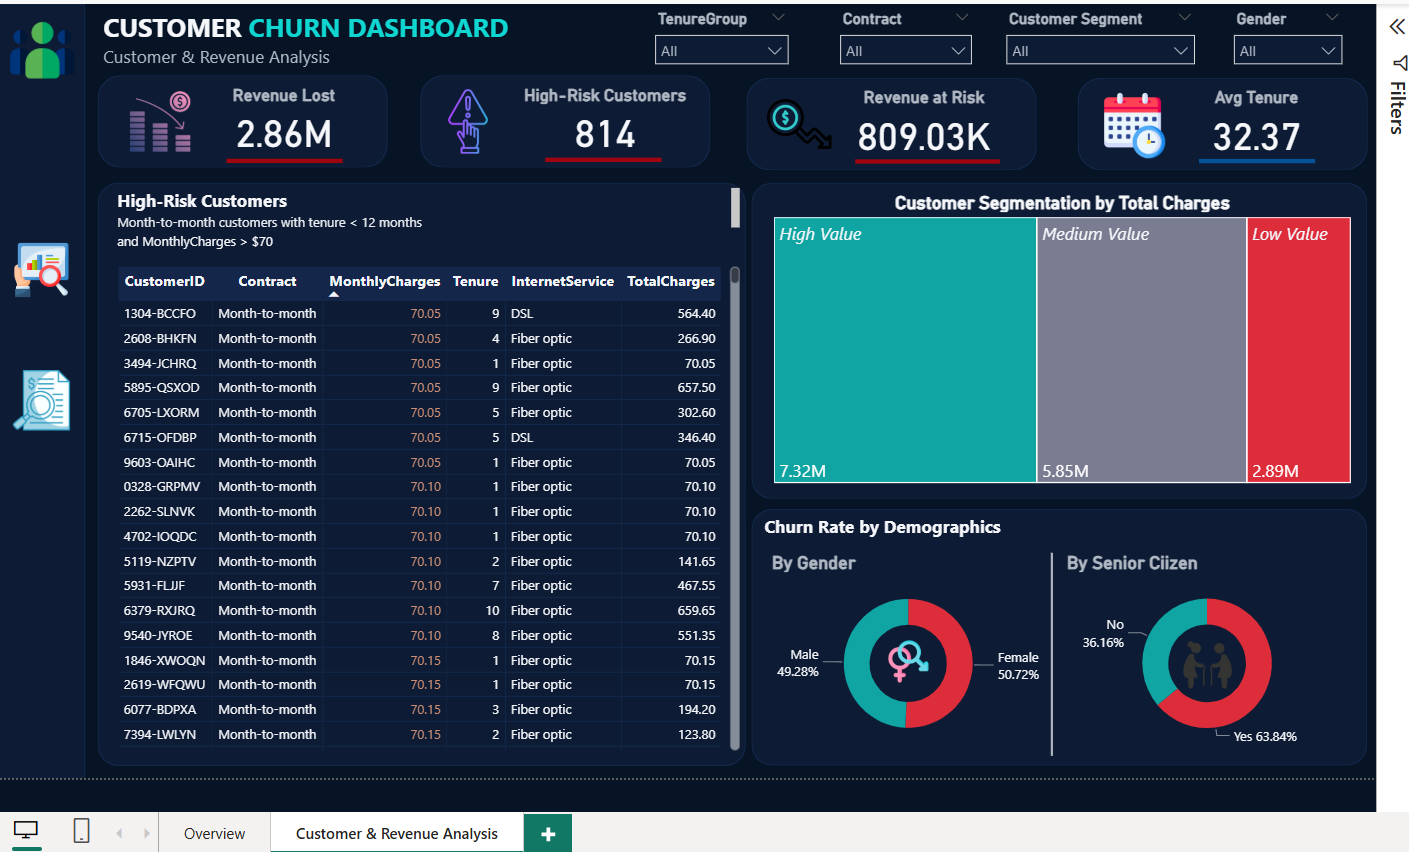

The dashboard page shown, as its layout file describes it:
{"tool":"powerbi","page":{"name":"Customer & Revenue Analysis","canvas":[1280,720],"ordinal":1},"visuals":[{"type":"shape","box":[700,166.3,572.3,294],"z":0},{"type":"shape","box":[91.6,166.3,602.4,542.2],"z":1000},{"type":"shape","box":[0,0,80,720],"z":2000},{"type":"textbox","box":[91.2,0,426.2,66.2],"z":3000},{"type":"shape","box":[91.8,66.2,269.6,86],"z":4000},{"type":"slicer","fields":{"Values":["Telco-Customer-Churn.Gender"]},"box":[1137.6,0,120.8,66.2],"z":5000},{"type":"slicer","fields":{"Values":["Telco-Customer-Churn.Customer Segment"]},"box":[926.1,0,195.2,66.2],"z":6000},{"type":"slicer","fields":{"Values":["Telco-Customer-Churn.Contract"]},"box":[771.5,0,142.9,66.2],"z":7000},{"type":"slicer","fields":{"Values":["Telco-Customer-Churn.TenureGroup"]},"box":[599.6,0,144.1,66.2],"z":8000},{"type":"image","box":[0,8.1,80.2,69.7],"z":9000},{"type":"shape","box":[211.5,137.1,108.1,17.4],"z":10000},{"type":"shape","box":[391.6,66.2,269.6,86],"z":11000},{"type":"shape","box":[694.8,68.6,269.6,86],"z":12000},{"type":"shape","box":[1002.8,68.6,269.6,86],"z":13000},{"type":"card","title":"Revenue Lost","fields":{"Values":["MMeasures.Revenue Lost"]},"box":[176.6,75.5,176.6,66.2],"z":14000},{"type":"card","title":"High-Risk Customers","fields":{"Values":["MMeasures.High Risk Customers"]},"box":[475.2,75.5,176.6,66.2],"z":15000},{"type":"card","title":"Revenue at Risk","fields":{"Values":["MMeasures.Revenue at Risk"]},"box":[771.2,78.1,176.7,67.1],"z":16000},{"type":"card","title":"Avg Tenure","fields":{"Values":["MMeasures.Avg Tenure"]},"box":[1080.8,78.1,176.7,67.1],"z":17000},{"type":"tableEx","fields":{"Values":["Telco-Customer-Churn.CustomerID","Telco-Customer-Churn.Contract","Telco-Customer-Churn.MonthlyCharges","Telco-Customer-Churn.Tenure","Telco-Customer-Churn.InternetService","Telco-Customer-Churn.TotalCharges"]},"box":[104.8,239.8,589.2,459],"z":18000},{"type":"shape","box":[508.2,135.6,108.2,17.8],"z":19000},{"type":"shape","box":[1115.1,137,108.2,17.8],"z":20000},{"type":"image","box":[104.6,74.4,90,70],"z":21000},{"type":"image","box":[391.6,74.4,89.5,69.7],"z":22000},{"type":"image","box":[1010.9,77.9,89.5,70.9],"z":23000},{"type":"shape","box":[795.9,138.3,134.8,16.3],"z":24000},{"type":"image","box":[699.5,76.7,89.5,69.7],"z":25000},{"type":"textbox","box":[104.8,166.3,589.2,73.5],"z":26000},{"type":"shape","box":[700,469.9,572.3,238.6],"z":27000},{"type":"donutChart","title":" By Gender","fields":{"Category":["Telco-Customer-Churn.Gender"],"Y":["MMeasures.Churn Rate"]},"box":[713,509.2,263.9,189.2],"z":28000},{"type":"donutChart","title":" By Senior Ciizen","fields":{"Y":["MMeasures.Churn Rate"],"Category":["Telco-Customer-Churn.SeniorCitizenStatus"]},"box":[987.7,509.2,271.1,189.2],"z":29000},{"type":"textbox","box":[707,469.4,269.9,39.8],"z":30000},{"type":"shape","box":[968.7,509.6,19.3,189.2],"z":31000},{"type":"image","box":[814.2,586.3,61.4,49.4],"z":32000},{"type":"image","box":[1091.3,586.3,65.1,55.4],"z":33000},{"type":"treemap","title":"Customer Segmentation by Total Charges","fields":{"Group":["Telco-Customer-Churn.Customer Segment"],"Values":["Sum(Telco-Customer-Churn.TotalCharges)"]},"box":[715.7,174.7,545.8,275.9],"z":34000},{"type":"image","box":[4.8,216.9,69.9,60.2],"z":34001},{"type":"image","box":[4.8,331.3,69.9,74.7],"z":34002}]}

Visuals, with their boxes on the page's 1280x720 design canvas (x1, y1, x2, y2). These are canvas units, not pixel positions in the 1409x852 screenshot, which may show the page scaled, cropped or inside an application window:
shape: region(700, 166, 1272, 460)
shape: region(92, 166, 694, 708)
shape: region(0, 0, 80, 720)
textbox: region(91, 0, 517, 66)
shape: region(92, 66, 361, 152)
slicer - Telco-Customer-Churn.Gender: region(1138, 0, 1258, 66)
slicer - Telco-Customer-Churn.Customer Segment: region(926, 0, 1121, 66)
slicer - Telco-Customer-Churn.Contract: region(772, 0, 914, 66)
slicer - Telco-Customer-Churn.TenureGroup: region(600, 0, 744, 66)
image: region(0, 8, 80, 78)
shape: region(212, 137, 320, 154)
shape: region(392, 66, 661, 152)
shape: region(695, 69, 964, 155)
shape: region(1003, 69, 1272, 155)
"Revenue Lost" card: region(177, 76, 353, 142)
"High-Risk Customers" card: region(475, 76, 652, 142)
"Revenue at Risk" card: region(771, 78, 948, 145)
"Avg Tenure" card: region(1081, 78, 1258, 145)
tableEx - Telco-Customer-Churn.CustomerID x Telco-Customer-Churn.Contract: region(105, 240, 694, 699)
shape: region(508, 136, 616, 153)
shape: region(1115, 137, 1223, 155)
image: region(105, 74, 195, 144)
image: region(392, 74, 481, 144)
image: region(1011, 78, 1100, 149)
shape: region(796, 138, 931, 155)
image: region(700, 77, 789, 146)
textbox: region(105, 166, 694, 240)
shape: region(700, 470, 1272, 708)
" By Gender" donutChart: region(713, 509, 977, 698)
" By Senior Ciizen" donutChart: region(988, 509, 1259, 698)
textbox: region(707, 469, 977, 509)
shape: region(969, 510, 988, 699)
image: region(814, 586, 876, 636)
image: region(1091, 586, 1156, 642)
"Customer Segmentation by Total Charges" treemap: region(716, 175, 1262, 451)
image: region(5, 217, 75, 277)
image: region(5, 331, 75, 406)
